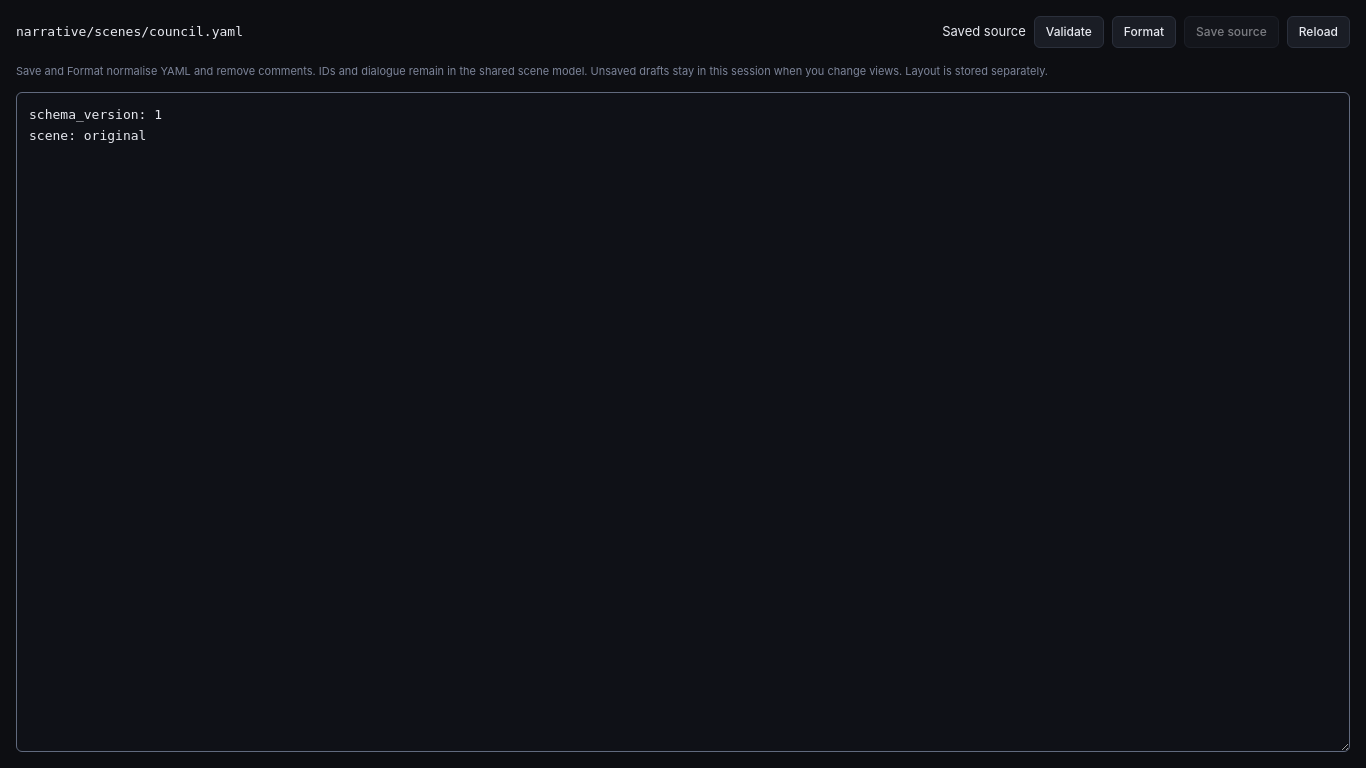
it: keeps Source validation tied to its original public project session even after same-path reopen
The image size is (1366, 768).
Replace the text in the text box named "Scene YAML" with "retained draft" at (683, 422), box left=16, top=92, right=1350, bottom=752
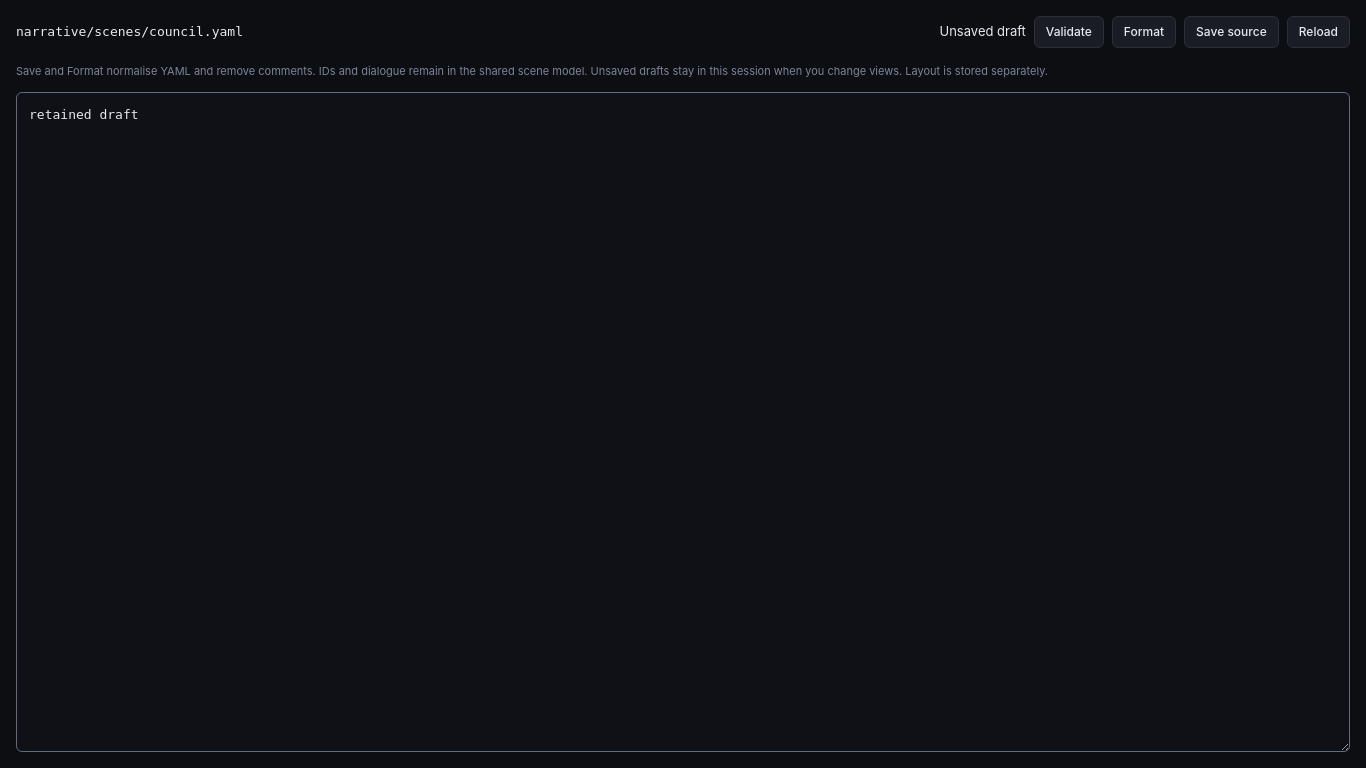
Click the button "Save source".
click(1231, 32)  # box left=1184, top=16, right=1279, bottom=48
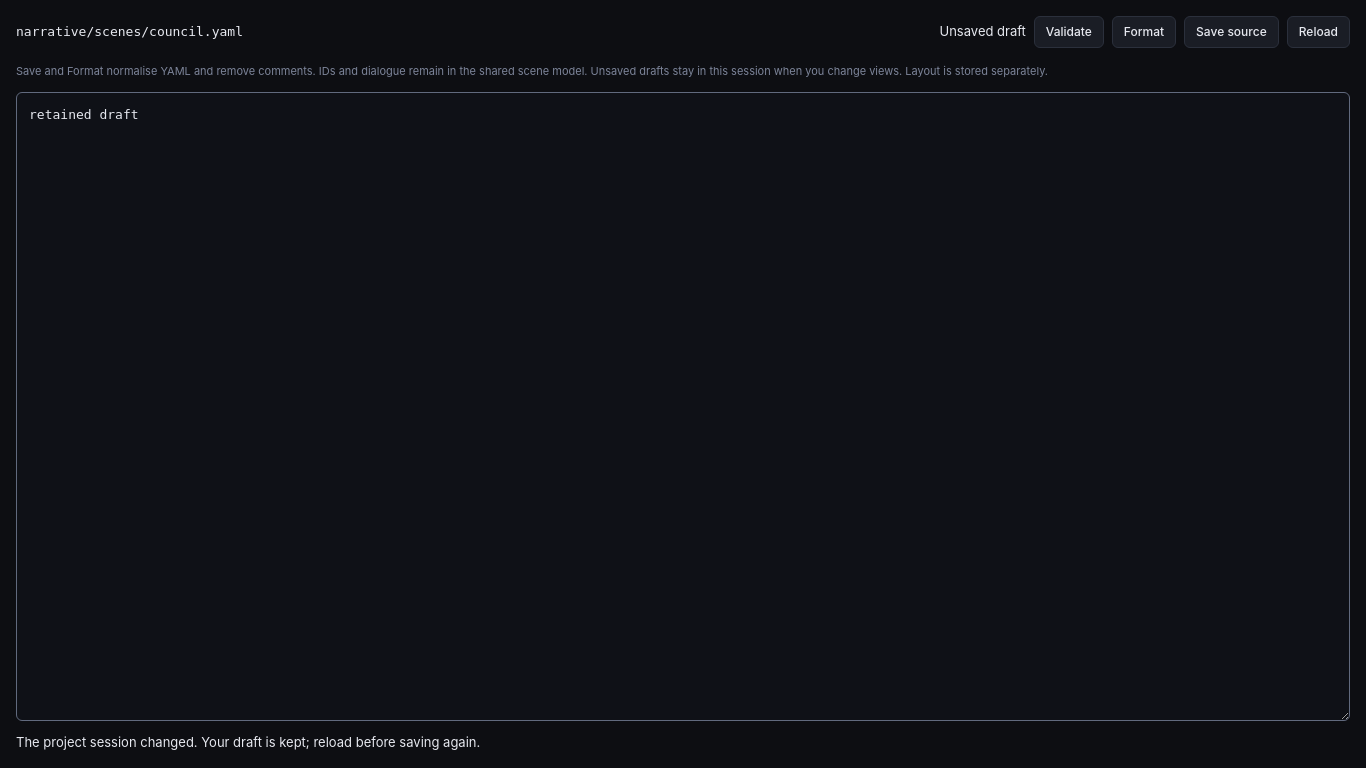
Now the text "The project session changed. Your draft is kept; reload before saving again." is shown, box left=16, top=734, right=480, bottom=750
